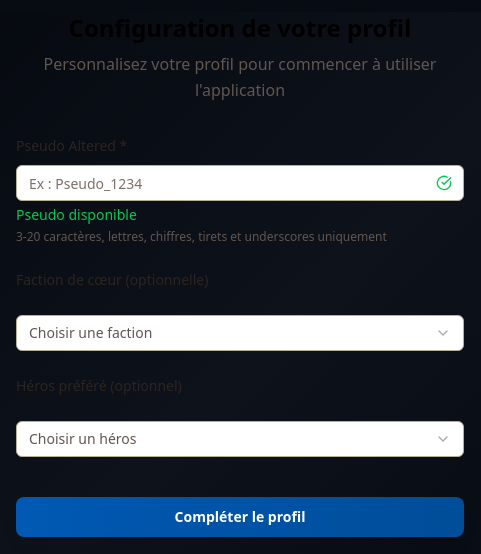
OnboardingForm › should show loading state during submission
Type "TestUser" into the field with placeholder "Ex : Pseudo_1234". click: (240, 183)
box: [16,165,464,201]
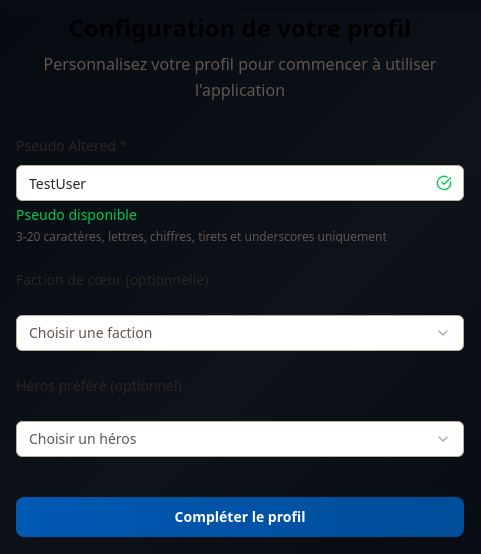
Click the button "Compléter le profil". click: (240, 517)
box: [16,497,464,537]
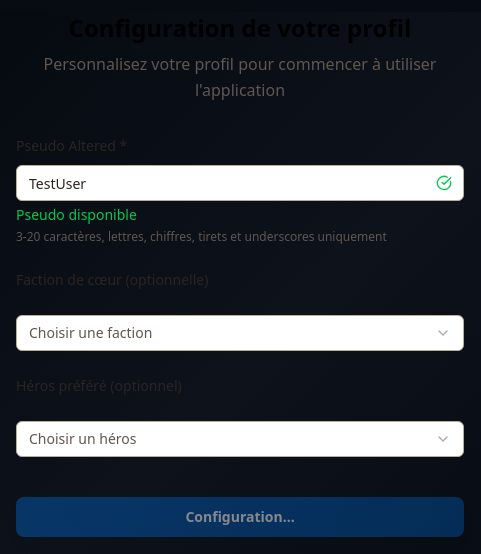
Check: the button named "Compléter le profil" is disabled, box [16,497,464,537]
